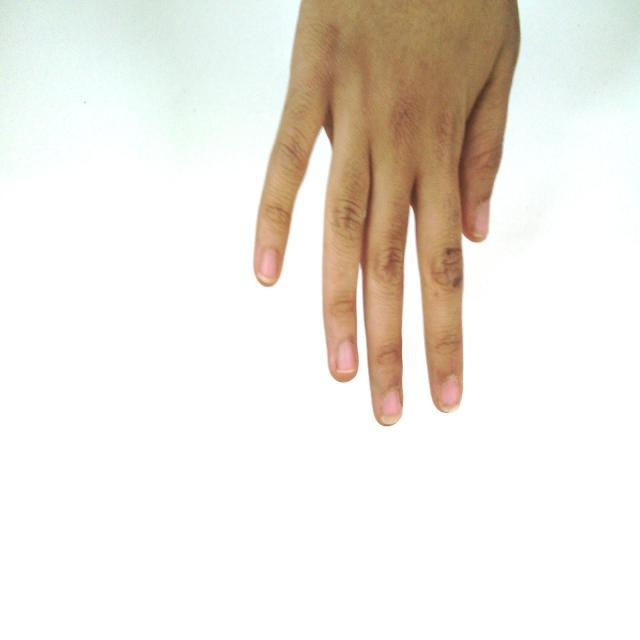Fingernail: (440, 376, 460, 407), (381, 390, 400, 421), (259, 249, 277, 281), (337, 341, 356, 371), (475, 201, 489, 239)
